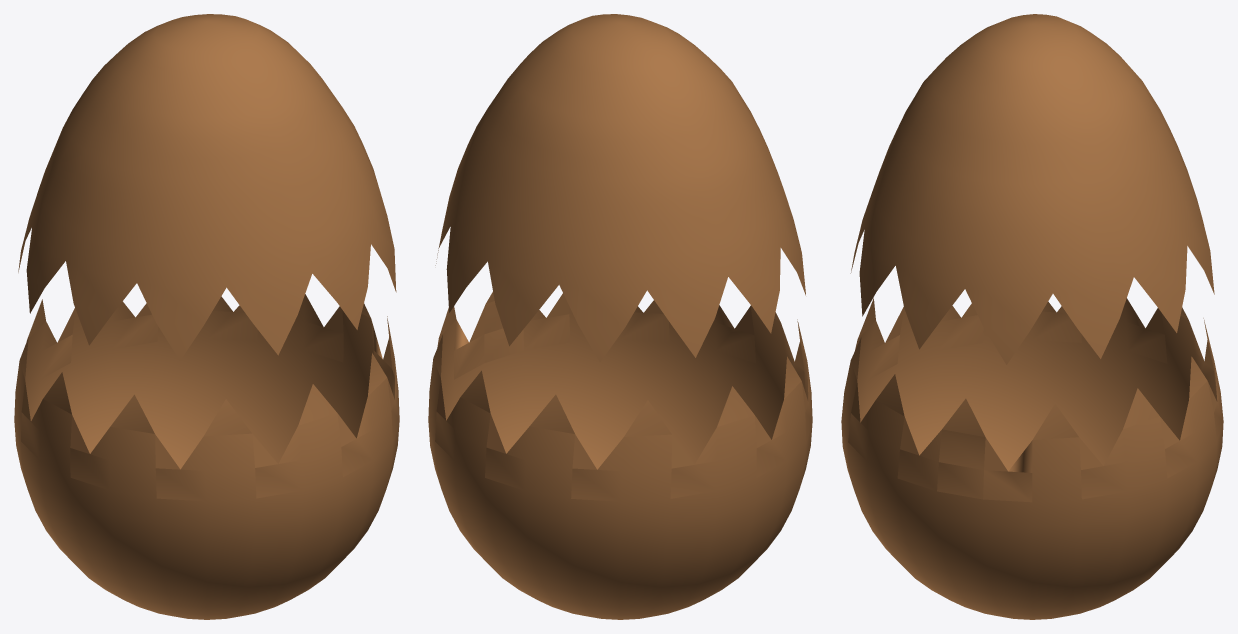
The picture shows the model from 3 angles, left to right: view 1: azimuth 30°, elevation 25°; view 2: azimuth 150°, elevation 25°; view 3: azimuth 270°, elevation 25°; orthographic projection.
Visible parts, largest first — view 1: Ei2; view 2: Ei2; view 3: Ei2.
Boxes of the visible parts, x1=… form: Ei2: x1=14, y1=14, x2=399, y2=619; Ei2: x1=428, y1=14, x2=812, y2=619; Ei2: x1=841, y1=14, x2=1223, y2=619.
Size of the model in its own units: 113 by 188 by 112.
